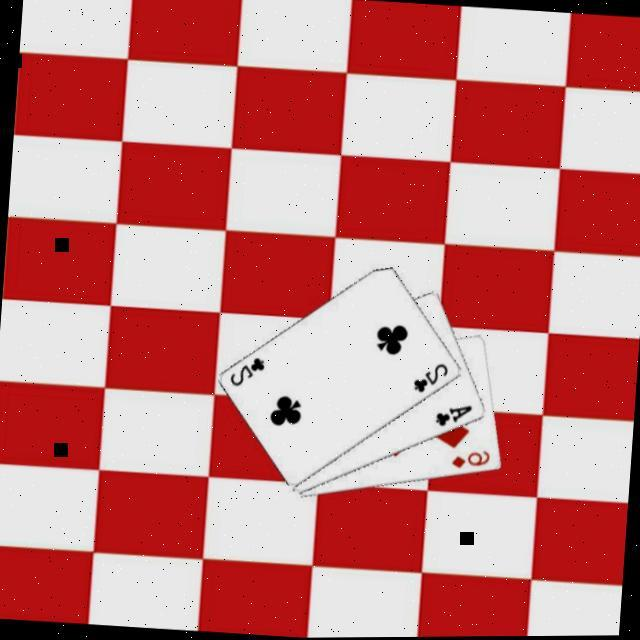2C: (407, 357, 449, 396), (224, 351, 266, 390)
6D: (446, 445, 492, 472)
AC: (430, 399, 474, 430)
